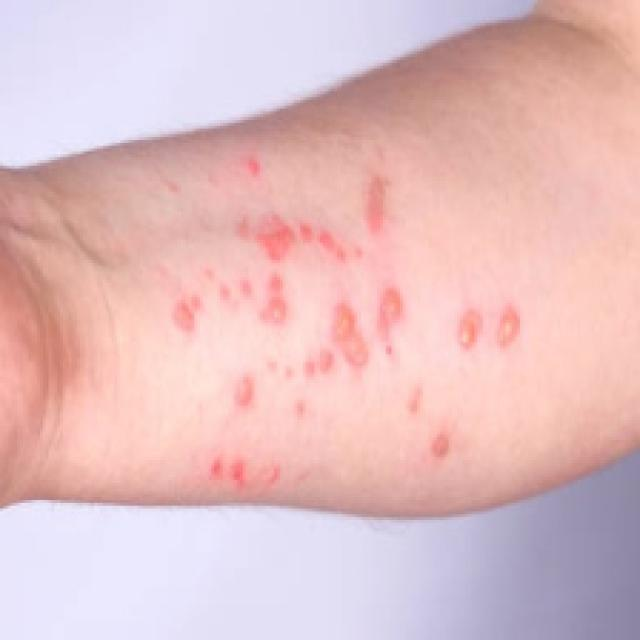Eczema: (155, 140, 521, 484)
